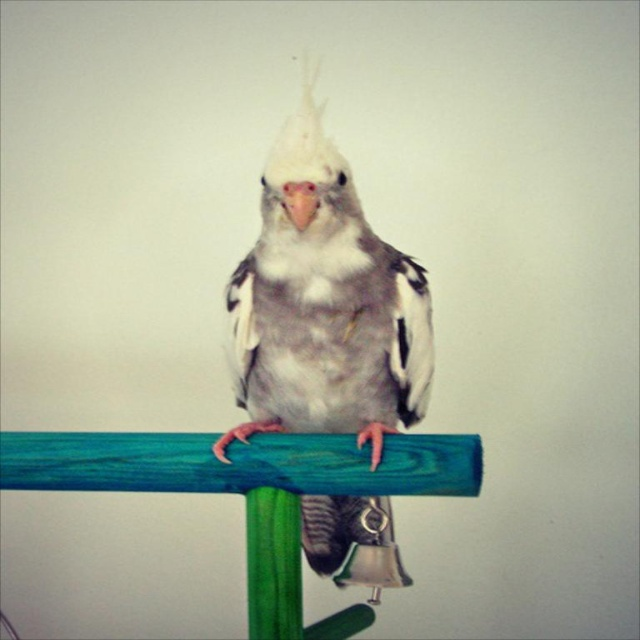Parrot: (212, 92, 437, 602)
